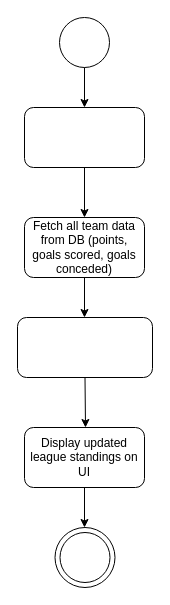
Image size: 170x605. Some labels were removed from this diagram. Here are the shapes that lost their labels. From the top down, the centre of each, then its label:
At [84,137]: "User requests league standings".
At [84,347]: "Sort teams by: Total points . Goal difference".
